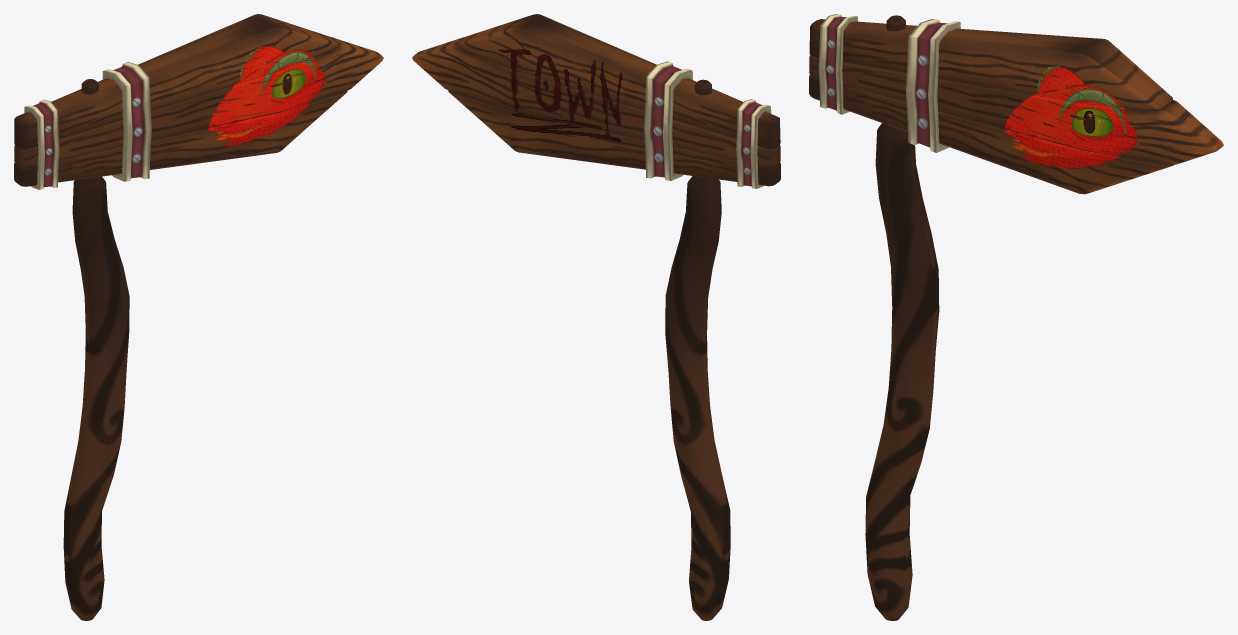
File: Town_Sign_3.glb
3 renders of one model, left to right at view 1: azimuth 30°, elevation 25°; view 2: azimuth 150°, elevation 25°; view 3: azimuth 330°, elevation 25°, orthographic. The views are drawn at different scales.
Parts seen in each view (by area): view 1: Plane.003, Cylinder.002, Cube.005, Cube.004; view 2: Plane.003, Cylinder.002, Cube.005, Cube.004; view 3: Plane.003, Cylinder.002, Cube.005, Cube.004.
Boxes of the visible parts, bbox=[...] form: Plane.003: bbox=[14, 14, 383, 186]; Cylinder.002: bbox=[63, 79, 129, 620]; Cube.005: bbox=[102, 62, 151, 181]; Cube.004: bbox=[24, 99, 59, 189]; Plane.003: bbox=[412, 14, 780, 186]; Cylinder.002: bbox=[665, 79, 730, 620]; Cube.005: bbox=[644, 61, 692, 180]; Cube.004: bbox=[736, 99, 771, 188]; Plane.003: bbox=[809, 19, 1223, 194]; Cylinder.002: bbox=[865, 15, 939, 620]; Cube.005: bbox=[906, 19, 960, 152]; Cube.004: bbox=[818, 14, 857, 114].
Size of the model in its own units: 3.07 by 4.47 by 0.3796.
Materials: 3 (3 with a texture image).
